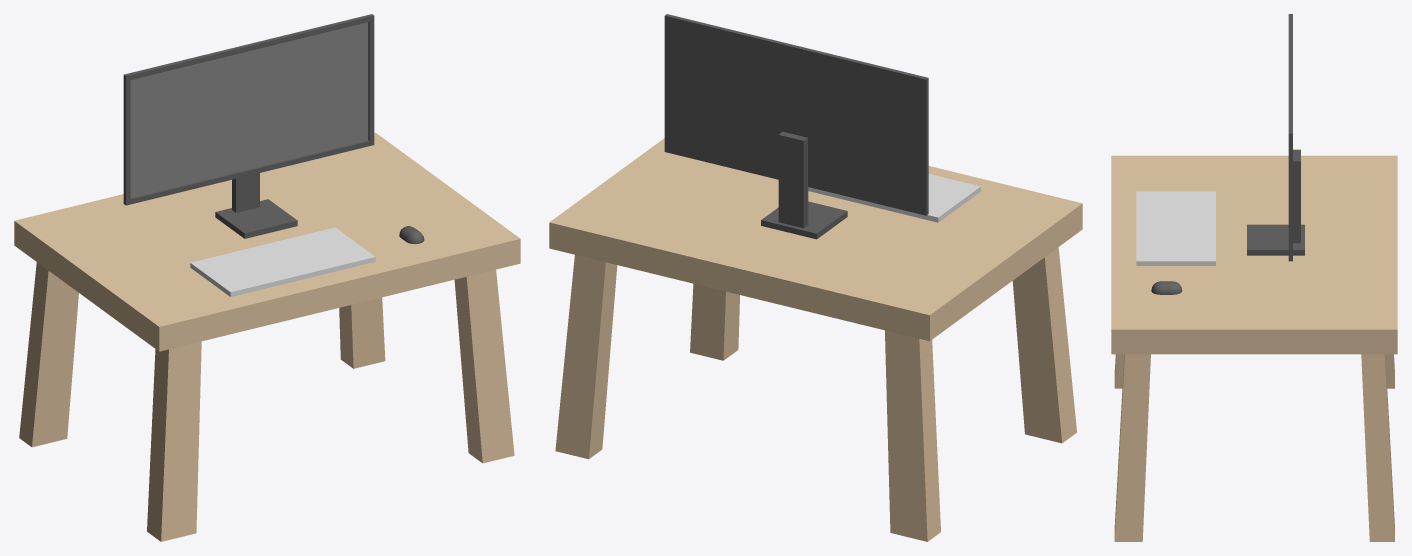
File: scrivania1.glb
3 renders of one model, left to right at view 1: azimuth 30°, elevation 25°; view 2: azimuth 150°, elevation 25°; view 3: azimuth 270°, elevation 25°, orthographic. The views are drawn at different scales.
Parts seen in each view (by area): view 1: Cube, Cube.2-Mat.2, keyboard, Cube.2-Mat.1, Cube.4, Cube.3; view 2: Cube, Cube.2-Mat.1, Cube.3, keyboard, Cube.4; view 3: Cube, keyboard, Cube.4, Cube.2-Mat.1, Cube.3, Capsule.
Part boxes in pixels (x1,y1,x2,y2): Cube: [14, 132, 520, 541]; Cube.2-Mat.2: [130, 22, 368, 197]; keyboard: [190, 227, 375, 296]; Cube.2-Mat.1: [123, 14, 374, 205]; Cube.4: [215, 199, 297, 238]; Cube.3: [232, 173, 259, 212]; Cube: [549, 138, 1082, 541]; Cube.2-Mat.1: [664, 14, 928, 215]; Cube.3: [778, 131, 808, 228]; keyboard: [808, 174, 980, 222]; Cube.4: [761, 201, 847, 239]; Cube: [1111, 155, 1397, 541]; keyboard: [1136, 191, 1215, 265]; Cube.4: [1247, 224, 1304, 255]; Cube.2-Mat.1: [1288, 14, 1292, 261]; Cube.3: [1293, 149, 1300, 243]; Capsule: [1151, 281, 1182, 294].
Bounding box in the file's own units: 35.99 × 36.96 × 25.04.
